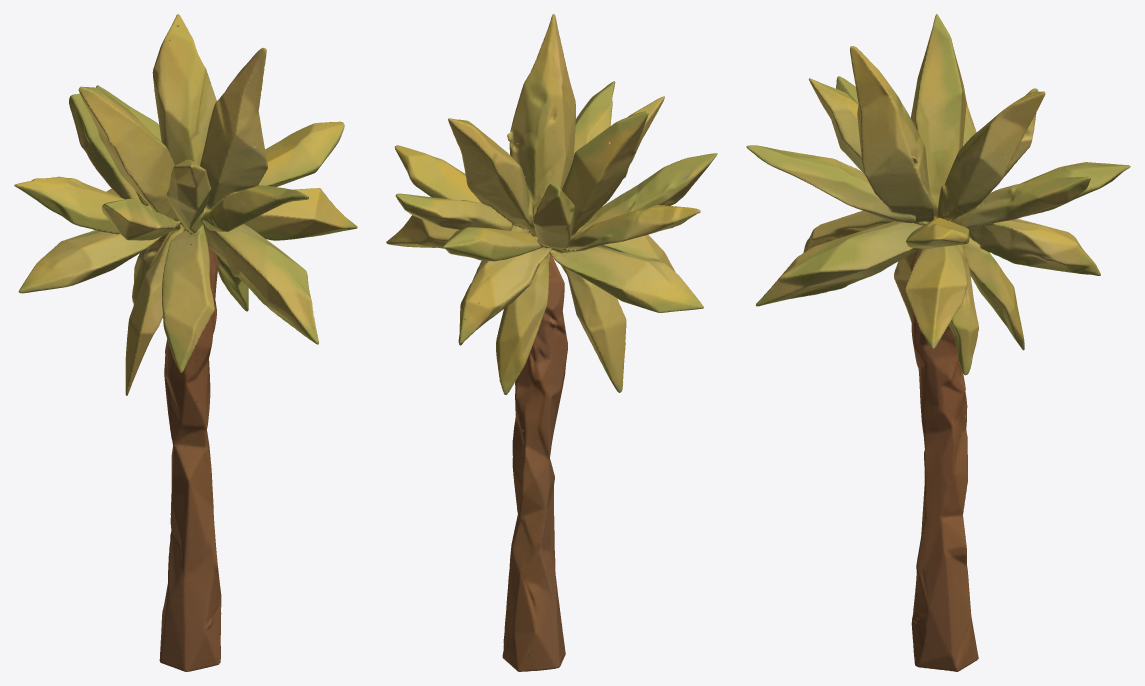
The model's file is Frailejon.fbx.
3 renders of one model, left to right at view 1: azimuth 30°, elevation 25°; view 2: azimuth 150°, elevation 25°; view 3: azimuth 270°, elevation 25°, orthographic. The views are drawn at different scales.
Parts seen in each view (by area): view 1: tripo_node_b598fe9b-6b91-4388-81fc-fb78d0d1e8ba; view 2: tripo_node_b598fe9b-6b91-4388-81fc-fb78d0d1e8ba; view 3: tripo_node_b598fe9b-6b91-4388-81fc-fb78d0d1e8ba.
Boxes of the visible parts, x1,y1,x2,y2 form: tripo_node_b598fe9b-6b91-4388-81fc-fb78d0d1e8ba: (14,14,357,671); tripo_node_b598fe9b-6b91-4388-81fc-fb78d0d1e8ba: (386,14,717,671); tripo_node_b598fe9b-6b91-4388-81fc-fb78d0d1e8ba: (746,14,1130,671).
Size of the model in its own units: 0.5529 by 1 by 0.5564.
Materials: 1 (1 with a texture image).
